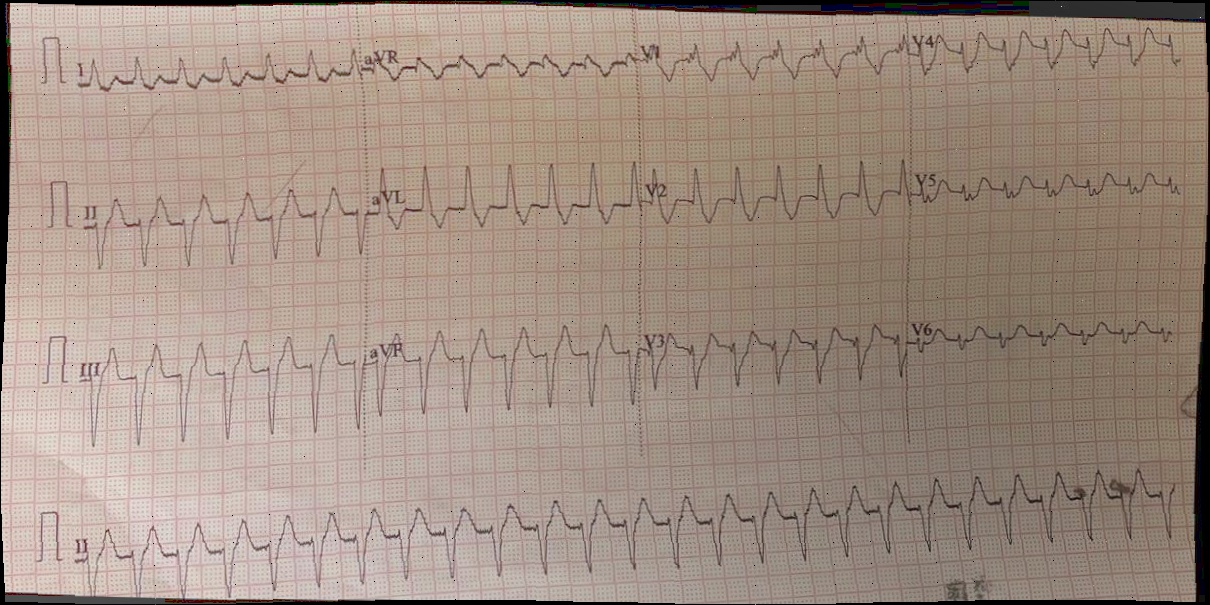Lead_I: (61, 33, 359, 105)
Lead_II: (63, 167, 371, 280)
Lead_III: (65, 324, 372, 456)
Lead_II_ext: (57, 432, 1192, 605)
Lead_V1: (635, 14, 912, 104)
Lead_V2: (640, 145, 914, 236)
Lead_V3: (637, 299, 916, 409)
Lead_V4: (909, 10, 1204, 104)
Lead_V5: (908, 140, 1194, 231)
Lead_V6: (911, 299, 1198, 366)
Lead_aVF: (363, 301, 651, 453)
Lead_aVL: (356, 141, 644, 263)
Lead_aVR: (355, 23, 638, 109)
